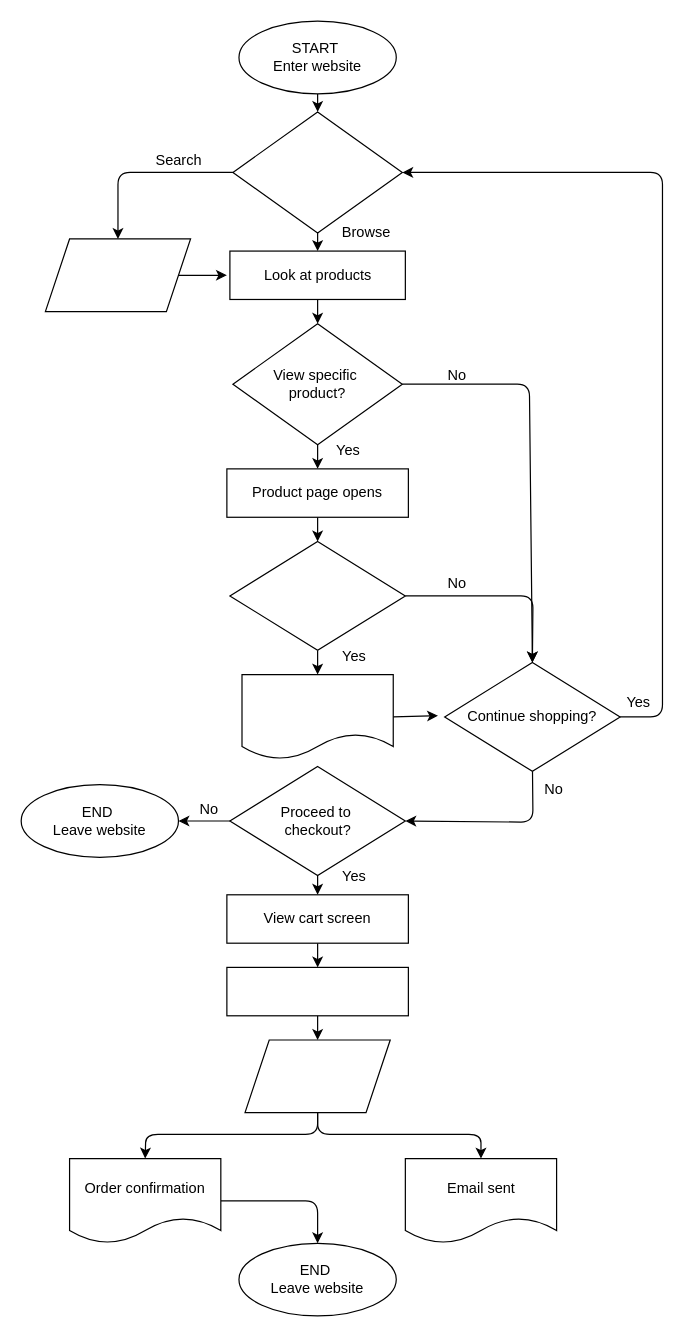
Image size: 693x1337. Some labels were removed from this diagram. The box of each missing label's shape, as (x1, y1, x2, y2) in pixels:
Add to cart?: (229, 540, 405, 650)
Added to cart confirmation: (241, 673, 393, 759)
Enter payment info: (244, 1039, 390, 1113)
Enter search input: (44, 238, 191, 312)
Search or browse home page?: (232, 111, 402, 233)
View payment screen: (226, 966, 408, 1016)
